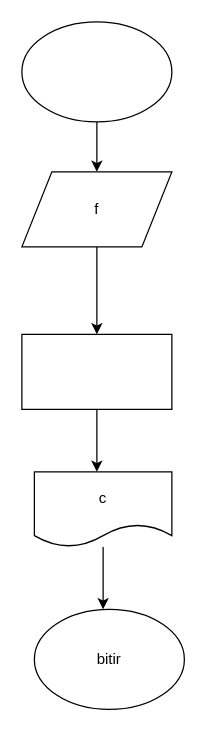
Some shapes in this 206 by 731 pixel diagram are drawn without their labels. The centre of each missing label's shape, as x and y in pixels:
"başla" goes at point (96, 71).
"c= (f-32)/1.8" goes at point (96, 371).
